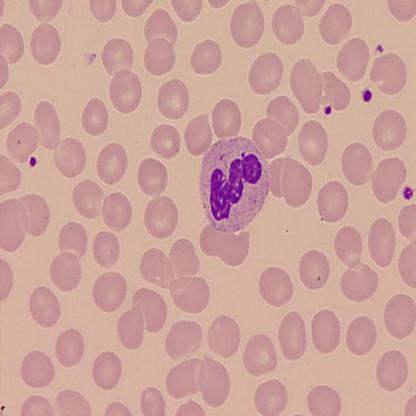Segmented neutrophil: (196, 132, 272, 235)
